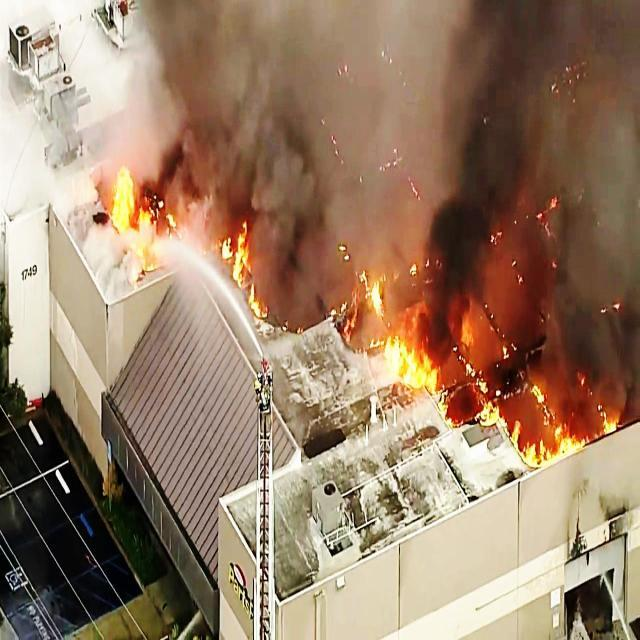Fire: (387, 339, 445, 402), (105, 174, 138, 244)
Smoke: (440, 0, 578, 298)
